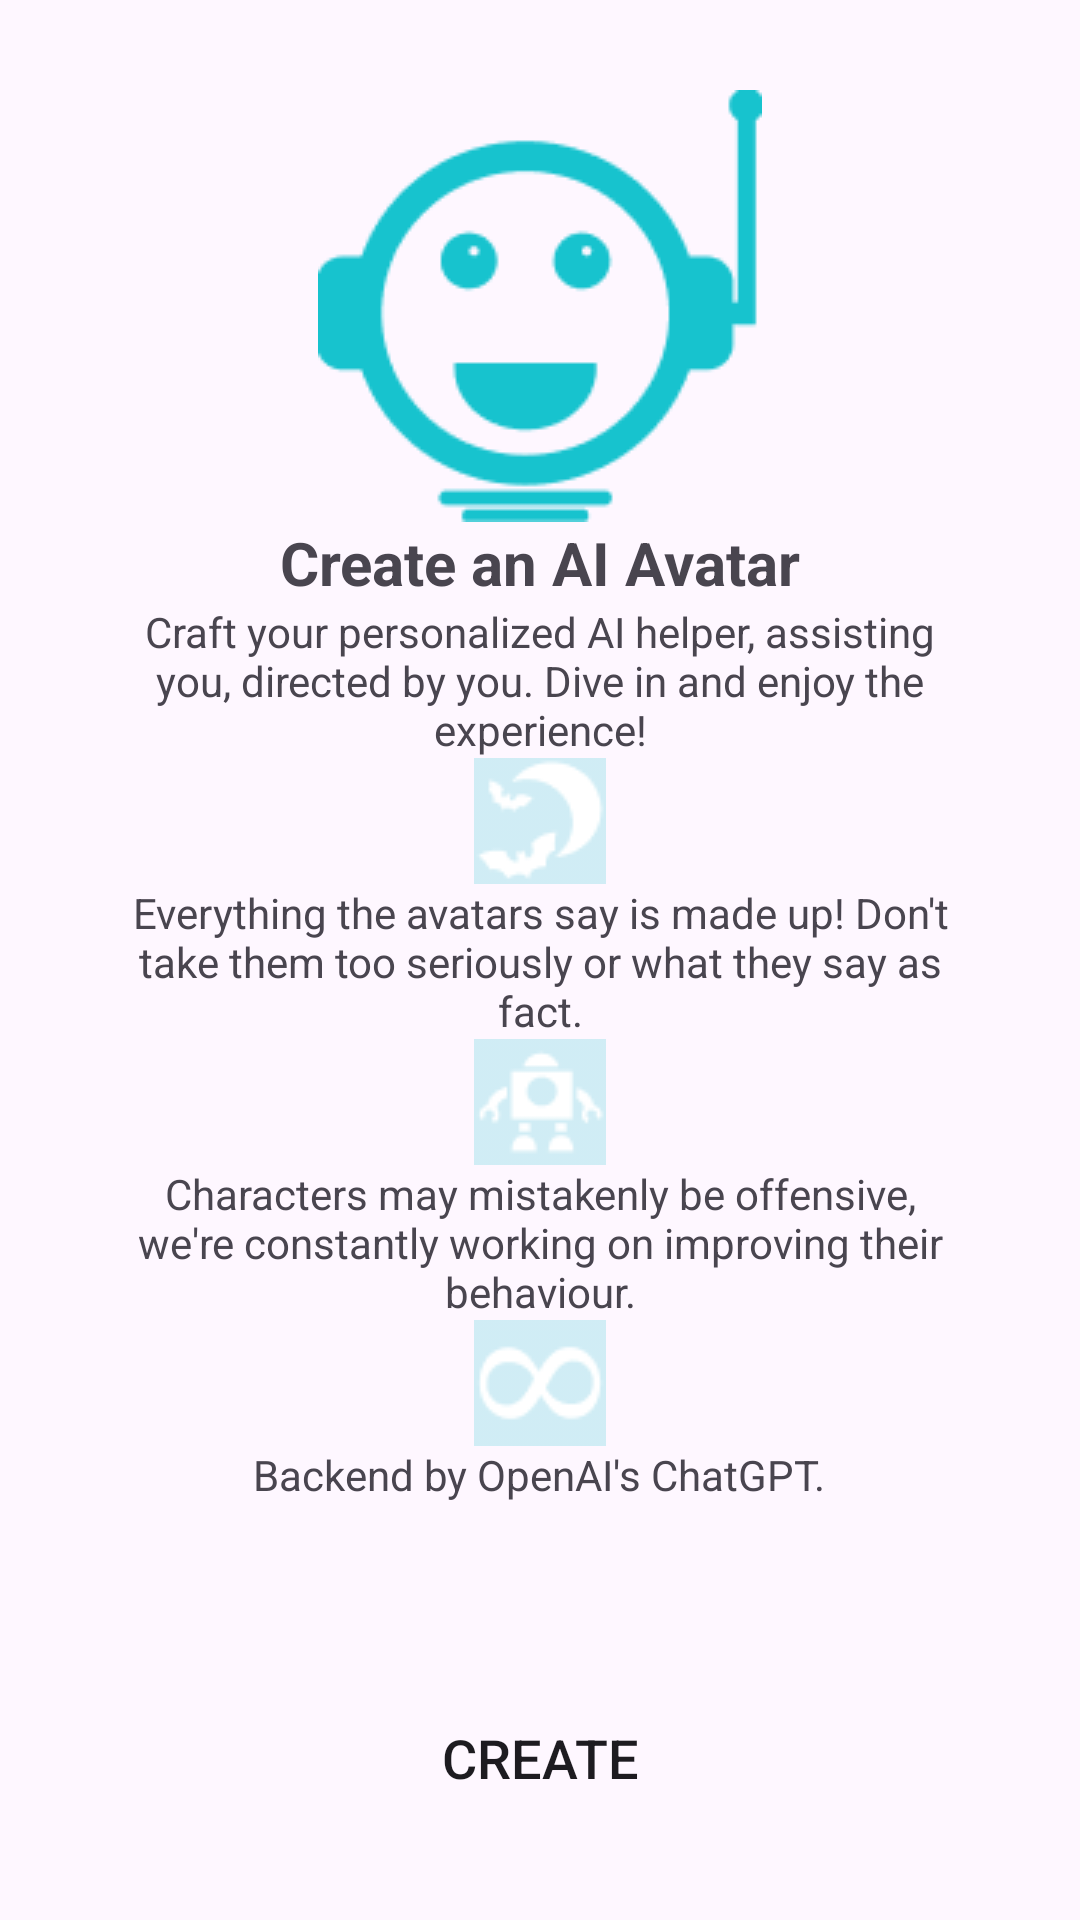

Icons on this 1080px x 1920px Android screen, each with its box as (x1, y1, x2, y2):
infinity: (474, 1320, 606, 1446)
moon bats: (474, 758, 606, 884)
vintage robot: (474, 1039, 606, 1165)
